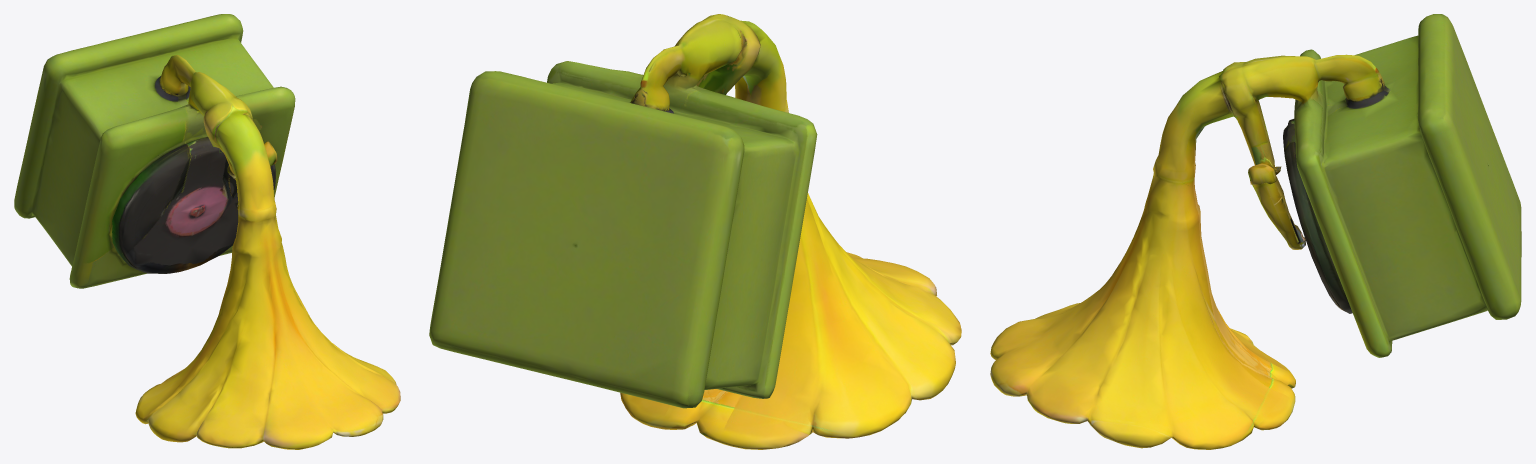
Rendered from osmio.fbx.
The picture shows the model from 3 angles, left to right: view 1: azimuth 30°, elevation 25°; view 2: azimuth 150°, elevation 25°; view 3: azimuth 270°, elevation 25°; orthographic projection. The views are drawn at different scales.
Parts seen in each view (by area): view 1: Mesh_0.009; view 2: Mesh_0.009; view 3: Mesh_0.009.
Part boxes in pixels (x1=…): Mesh_0.009: x1=14, y1=14, x2=400, y2=449; Mesh_0.009: x1=429, y1=14, x2=961, y2=449; Mesh_0.009: x1=990, y1=14, x2=1521, y2=449.
Bounding box in the file's own units: 0.2505 × 0.3118 × 0.4353.
1 material, 1 textured.
